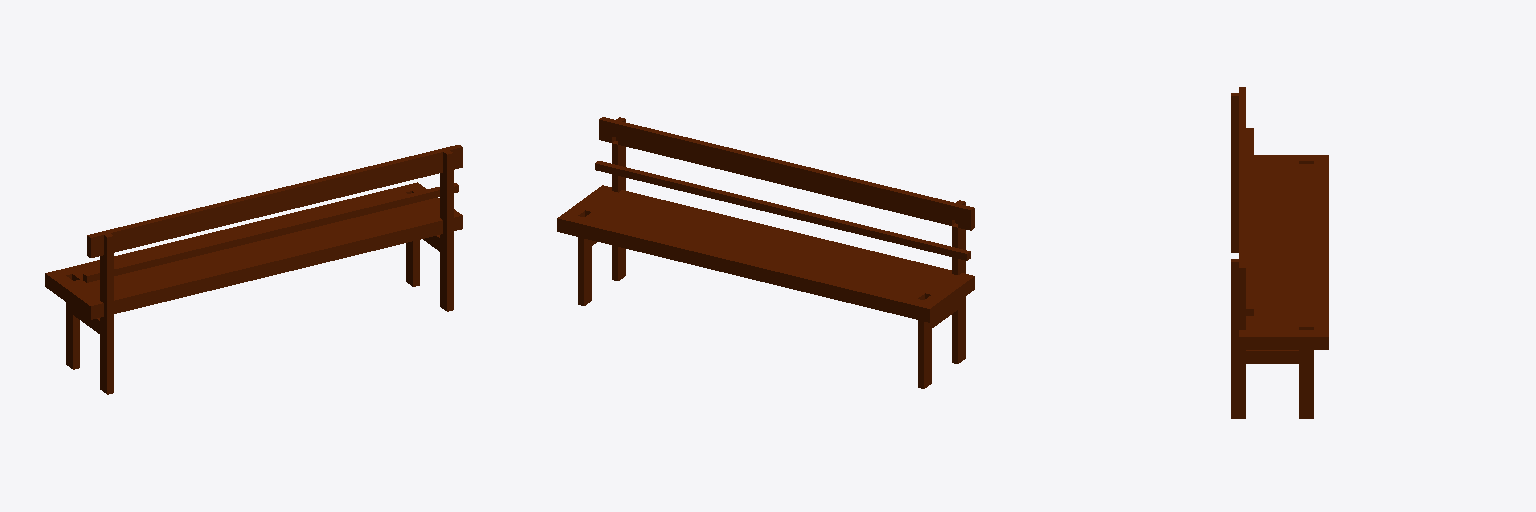
The model's file is bench.obj.
3 renders of one model, left to right at view 1: azimuth 30°, elevation 25°; view 2: azimuth 150°, elevation 25°; view 3: azimuth 270°, elevation 25°, orthographic.
Visible parts, largest first — view 1: bench_w_spine; view 2: bench_w_spine; view 3: bench_w_spine.
Boxes of the visible parts, <box> form: bench_w_spine: <box>45,145,462,394</box>; bench_w_spine: <box>557,117,974,388</box>; bench_w_spine: <box>1231,87,1328,418</box>.
Size of the model in its own units: 161 by 64.98 by 36.73.